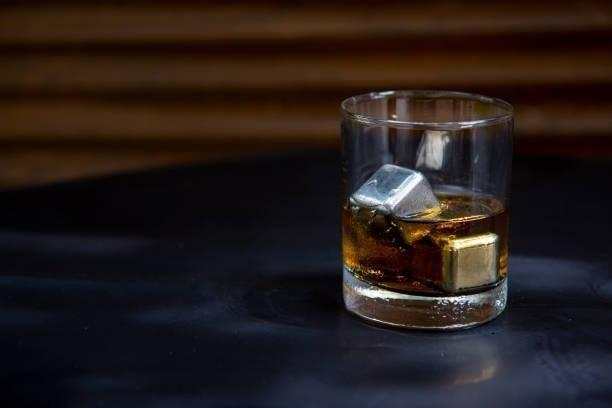glass-normal: (337, 87, 517, 333)
